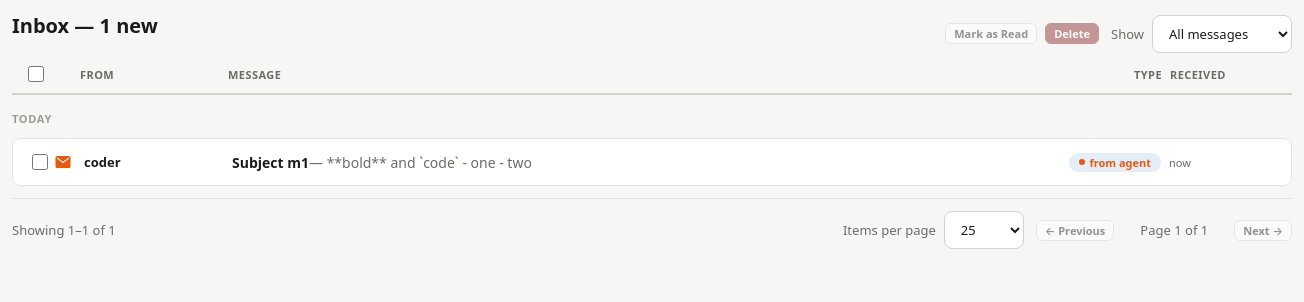
Test: markdown rendering in message body (S-285) › renders markdown emphasis, lists and code as real elements
Click the button with aria-label "Open message: Subject m1" at (102, 162), box 54,152 -> 1279,172
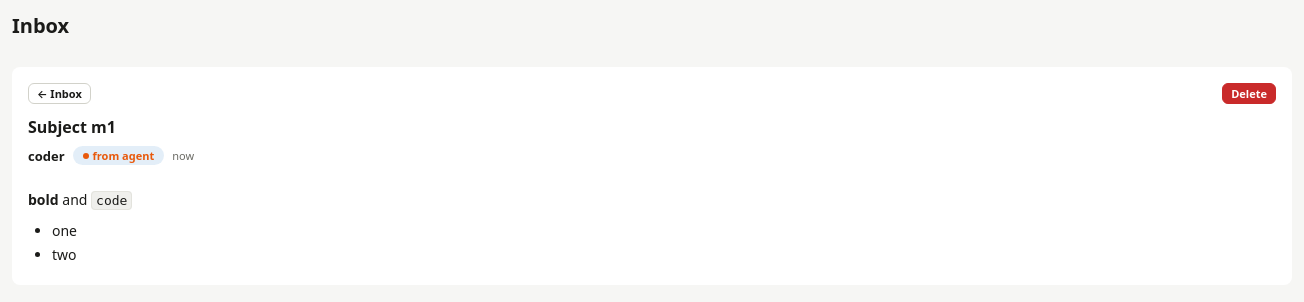
Expected: the text "bold" is shown, 28,190 -> 59,209
Expected: the number of list items is 2, 52,221 -> 77,240; 52,245 -> 76,264
